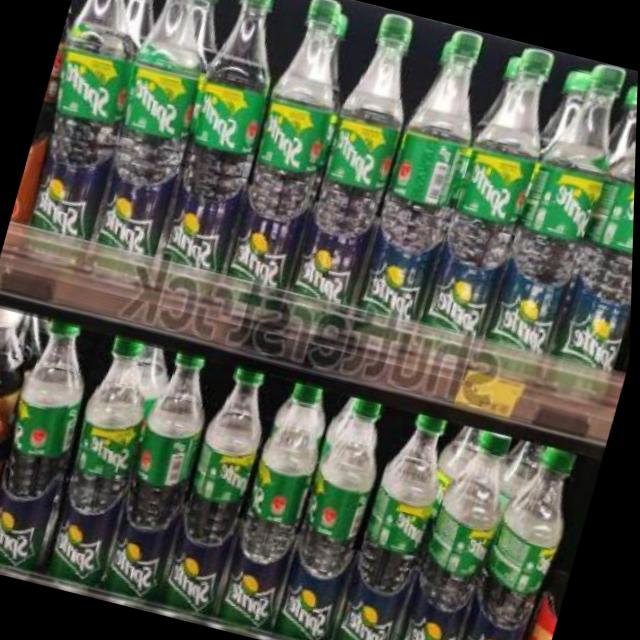Drinks: (355, 21, 499, 322), (422, 37, 566, 338), (490, 54, 633, 355), (289, 7, 430, 306), (220, 0, 361, 289), (156, 0, 296, 270), (82, 0, 229, 254), (14, 0, 157, 238), (101, 345, 225, 604), (42, 332, 166, 590), (216, 374, 338, 632), (161, 360, 283, 618), (275, 389, 397, 640), (336, 405, 459, 640), (392, 419, 522, 640), (0, 312, 106, 570), (457, 438, 587, 640), (556, 70, 638, 372)
